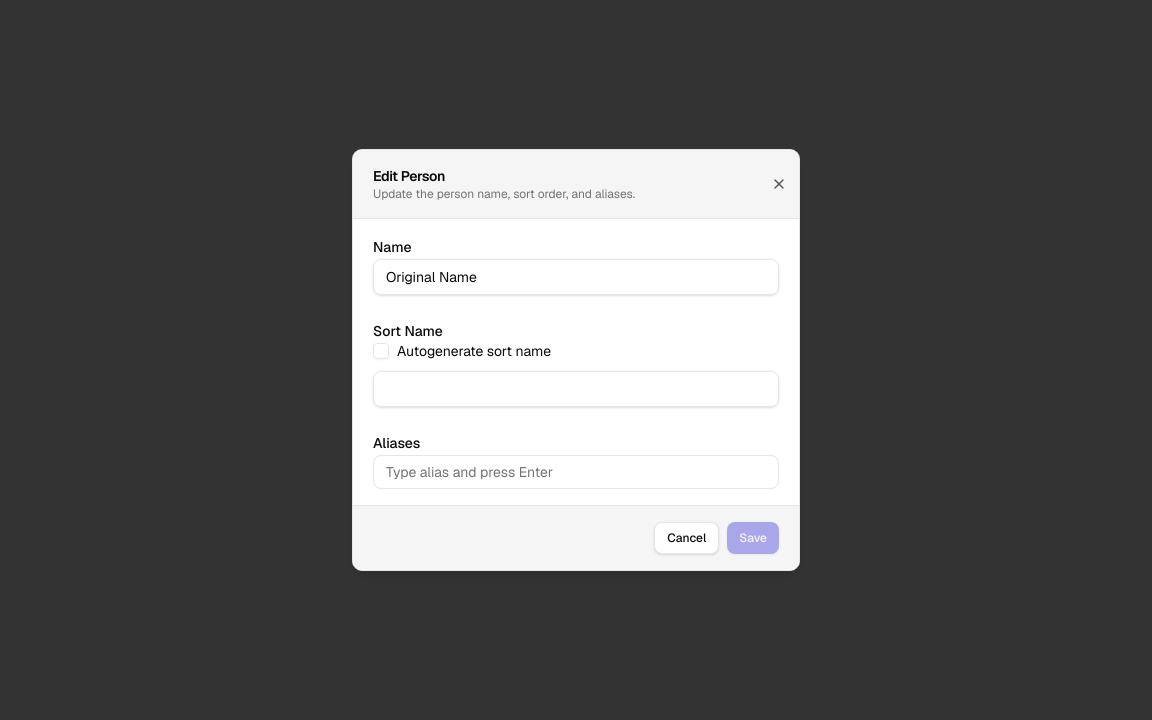
Test: MetadataEditDialog › save errors › shows an ordinary rejected save inline
The image size is (1152, 720).
Type " Edited" into the field showing "Original Name" at (576,277), box x1=373 y1=259 x2=779 y2=295
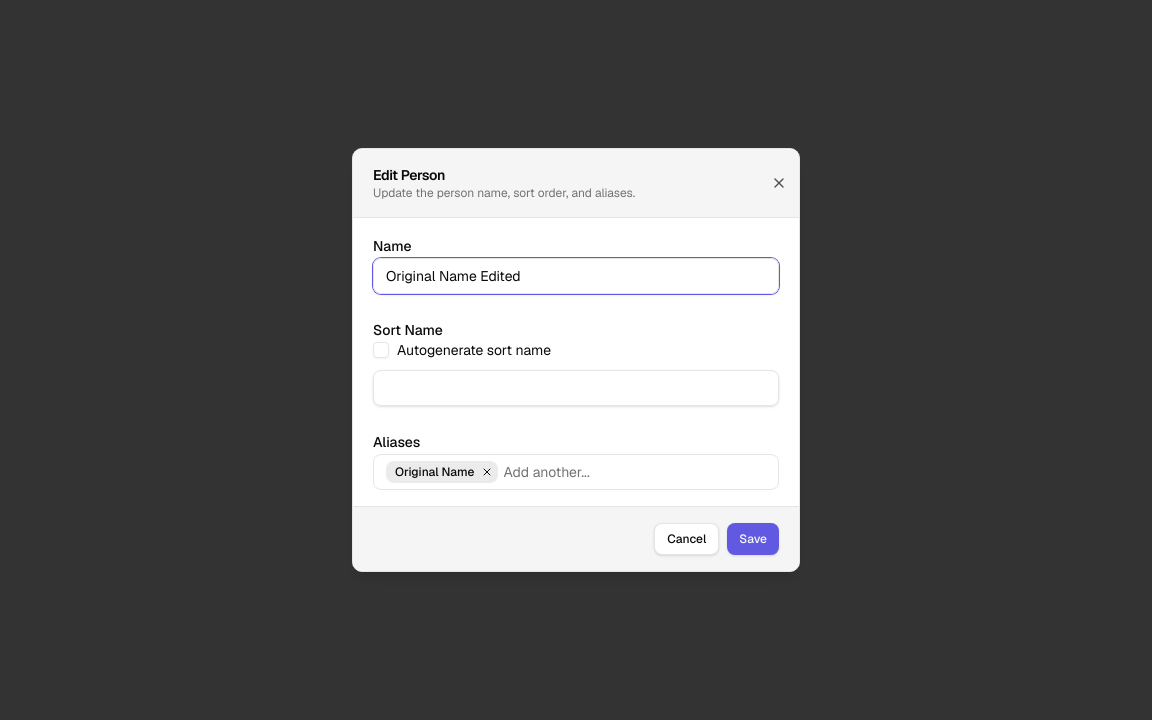
Click the button "Save" at (753,539), box x1=727 y1=523 x2=779 y2=555
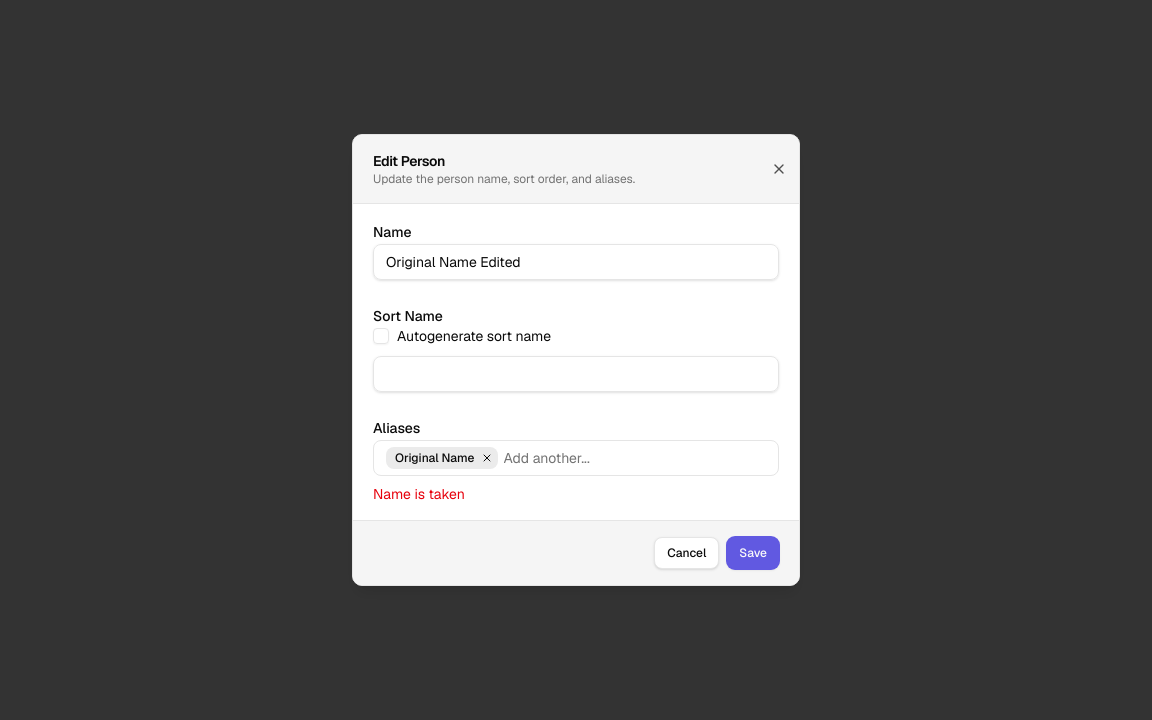
Check: the text "Name is taken" is shown, box x1=373 y1=485 x2=465 y2=503
